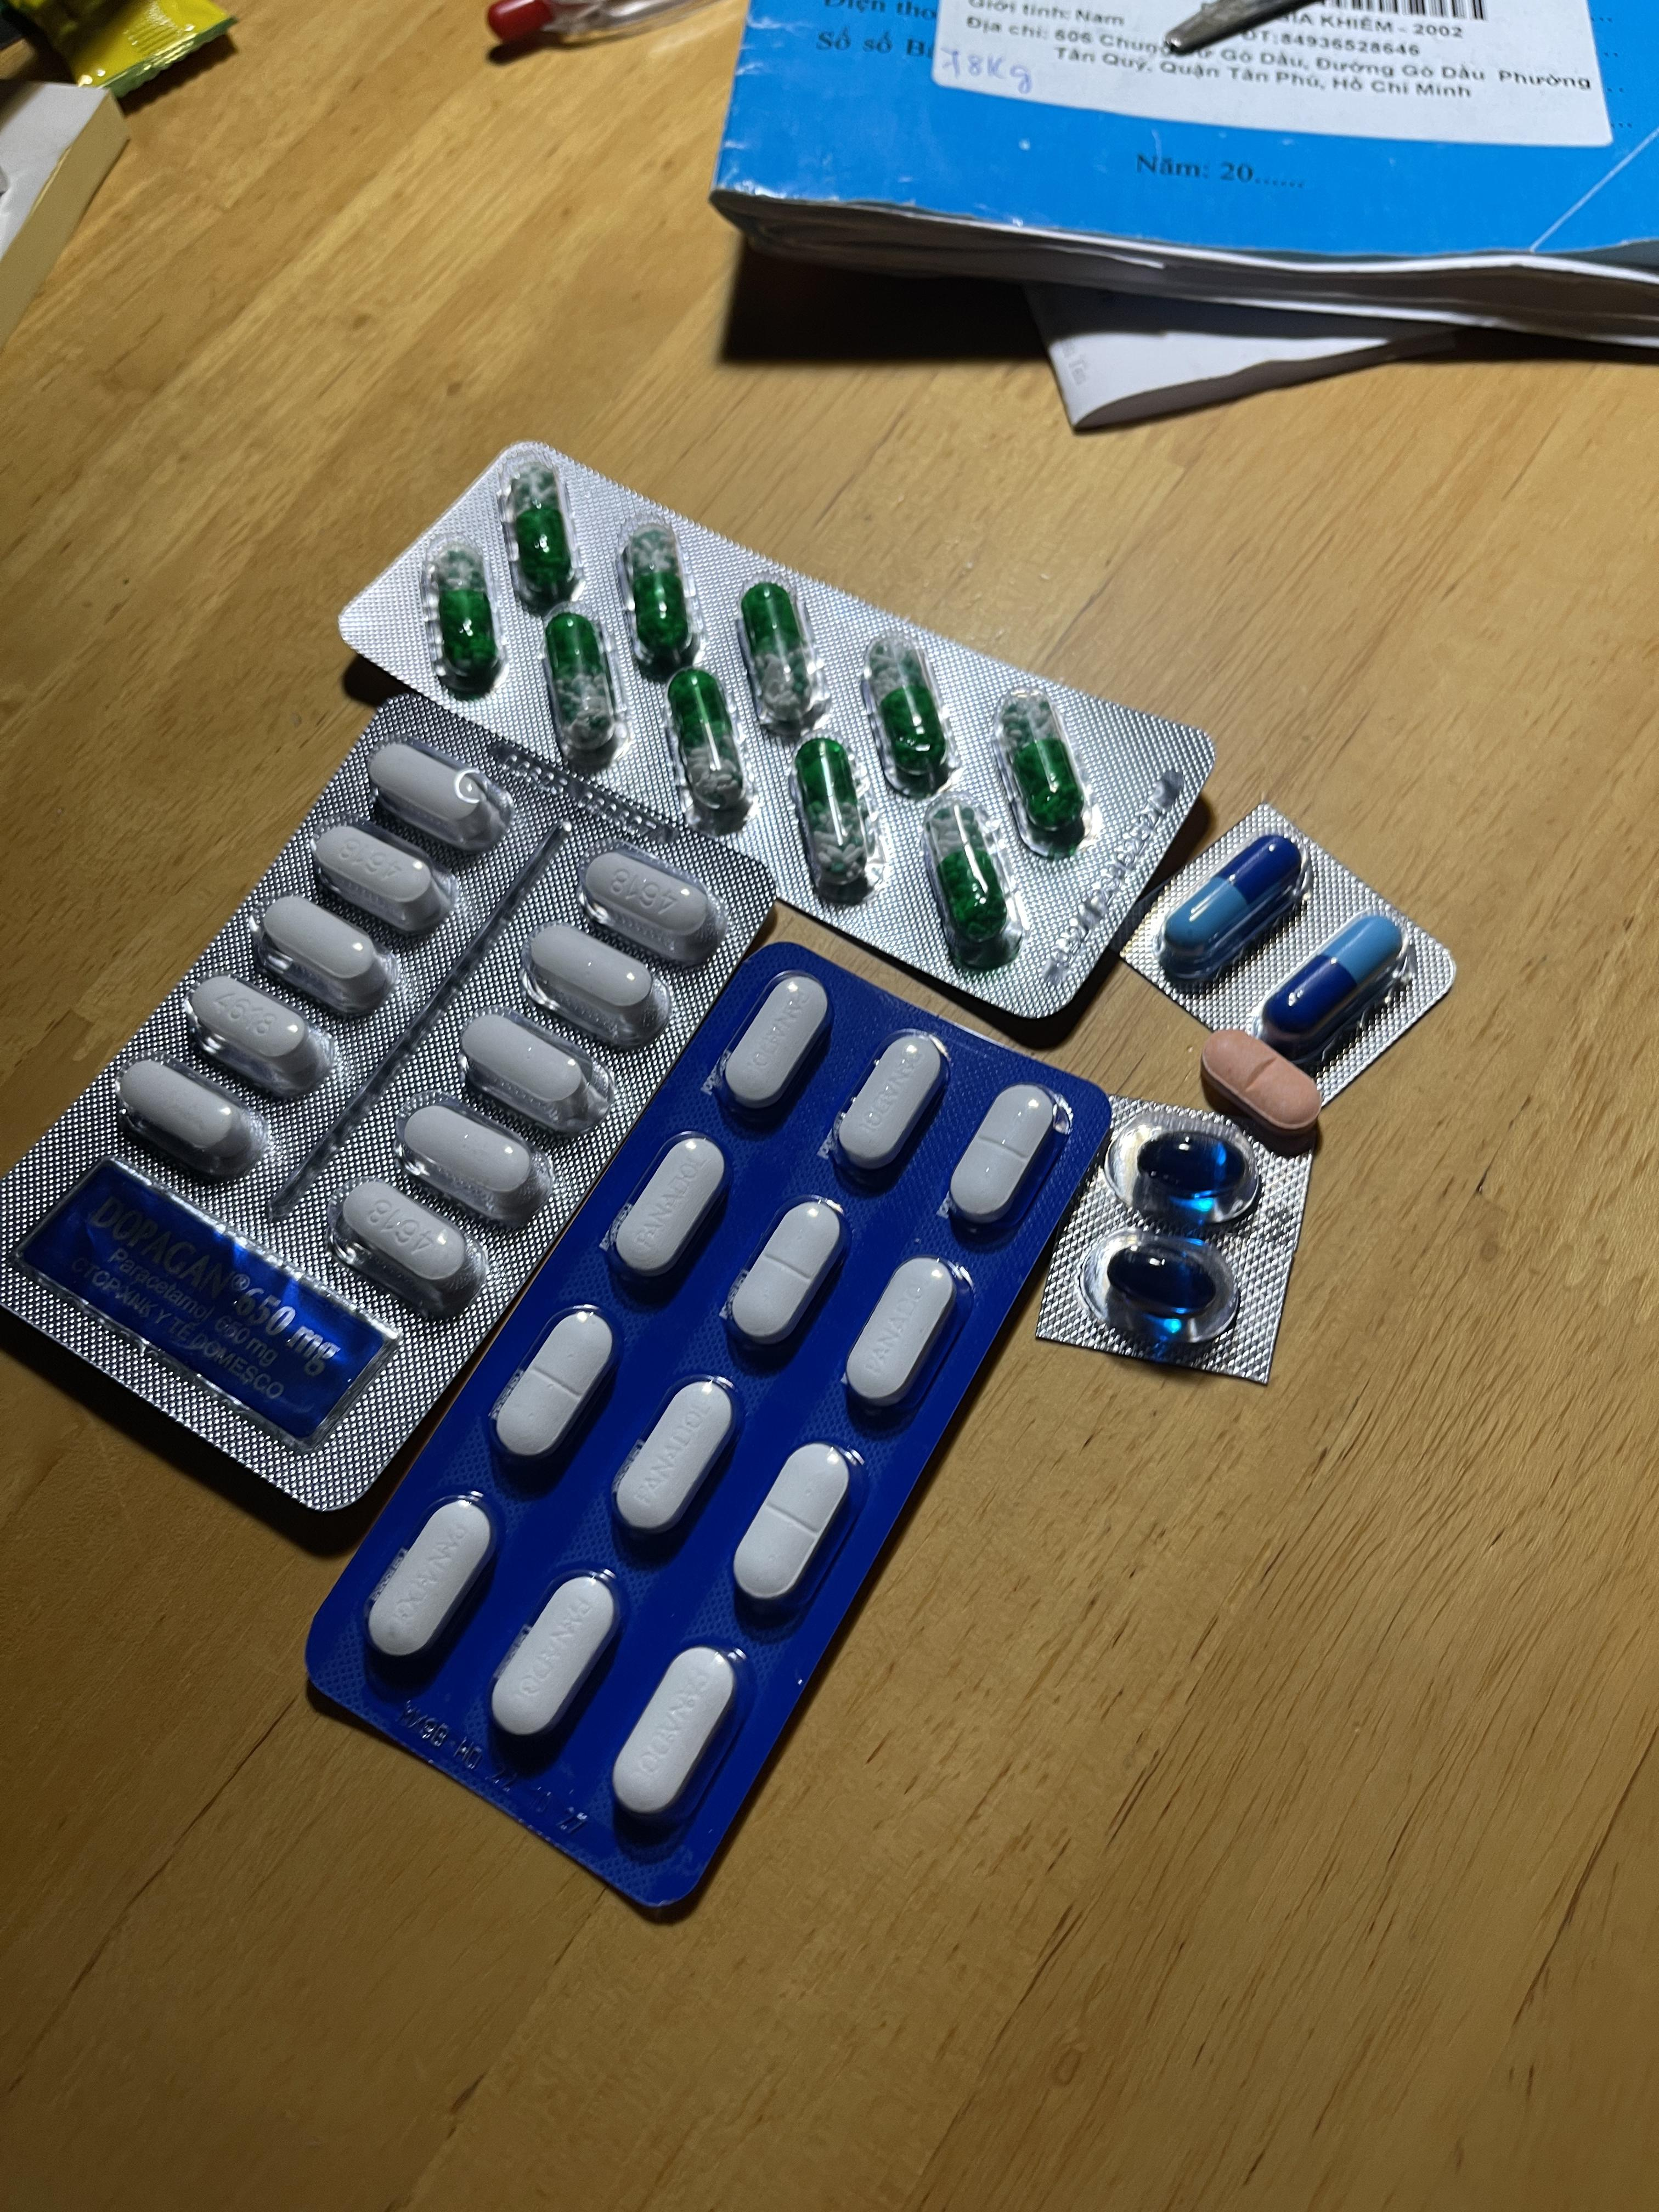Lincomyxin_500mg: (1107, 1244, 1218, 1322), (1134, 1129, 1241, 1202)
Loratadine_10mg: (1197, 1031, 1321, 1151)
Paracetamol_350mg: (615, 1644, 744, 1827), (491, 1571, 624, 1747), (368, 1494, 497, 1665), (615, 1376, 741, 1541), (493, 1305, 617, 1468), (734, 1442, 850, 1608), (610, 1134, 734, 1285), (728, 1197, 849, 1350), (847, 1261, 960, 1418), (831, 1028, 948, 1172), (720, 970, 835, 1113), (948, 1083, 1061, 1228)
Paracetamol_500mg: (326, 1179, 476, 1312), (458, 1008, 610, 1132), (254, 895, 403, 1017), (523, 927, 667, 1050), (113, 1059, 267, 1174), (580, 846, 727, 965), (401, 1103, 544, 1217), (312, 826, 457, 937), (186, 972, 324, 1087), (366, 744, 507, 852)
Paracetamol_650mg: (925, 799, 1026, 963), (863, 632, 951, 791), (420, 542, 505, 698), (999, 693, 1086, 843), (739, 578, 821, 728), (793, 737, 873, 888), (666, 671, 748, 819), (620, 524, 699, 676), (544, 611, 622, 759), (502, 462, 579, 610)
pill: (1263, 916, 1403, 1045), (1168, 833, 1300, 958)
